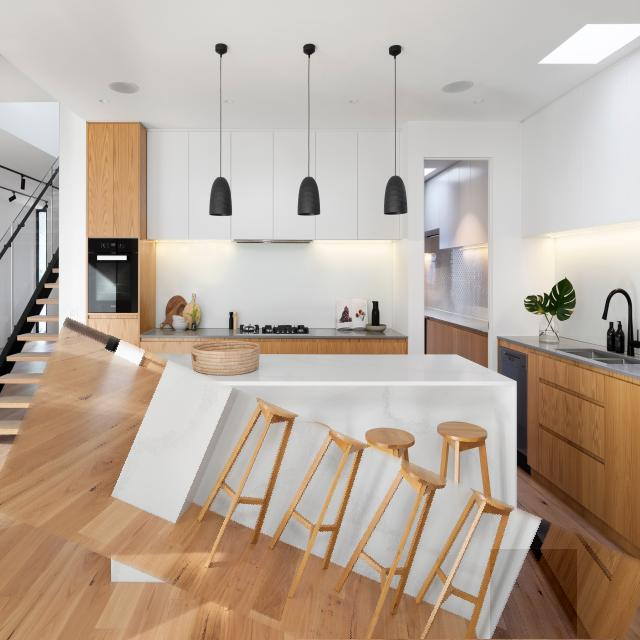floor: (0, 319, 380, 640), (491, 550, 577, 640), (369, 587, 434, 640), (425, 608, 470, 640), (472, 630, 477, 640)
